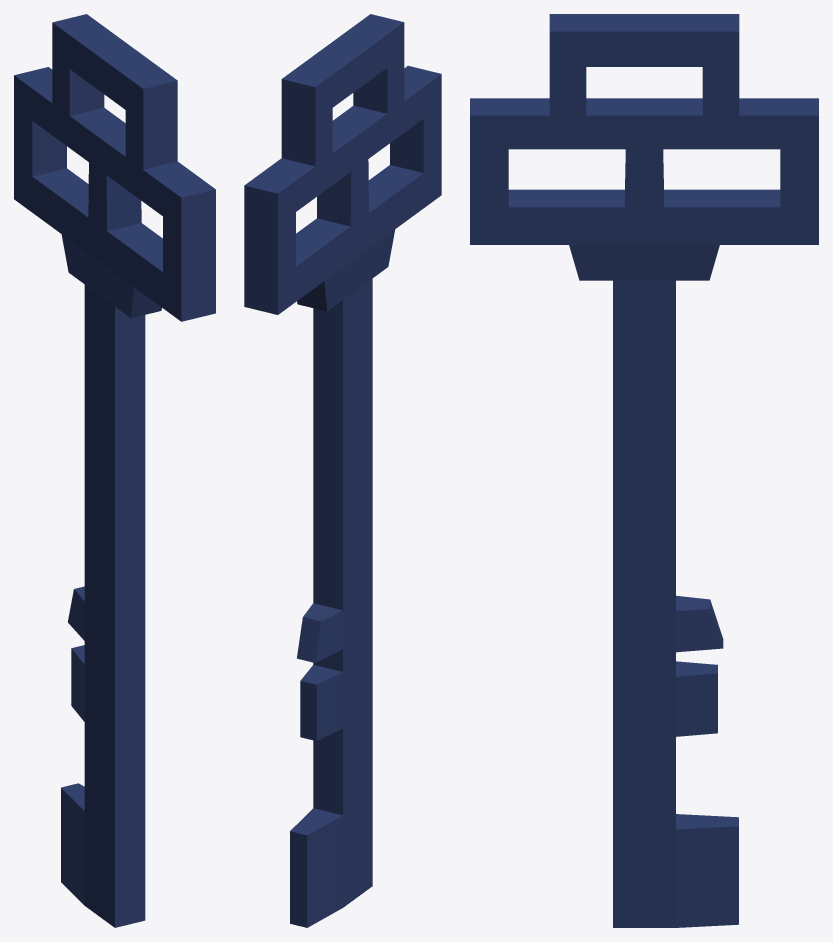
The model's file is Key3.fbx.
The picture shows the model from 3 angles, left to right: view 1: azimuth 30°, elevation 25°; view 2: azimuth 150°, elevation 25°; view 3: azimuth 270°, elevation 25°; orthographic projection. The views are drawn at different scales.
Parts seen in each view (by area): view 1: Cube; view 2: Cube; view 3: Cube.
Boxes of the visible parts, left/top/right/bottom form: Cube: left=14, top=14, right=215, bottom=927; Cube: left=244, top=14, right=441, bottom=927; Cube: left=470, top=14, right=818, bottom=927.
Bounding box in the file's own units: 0.0357 × 0.2999 × 0.8517.
